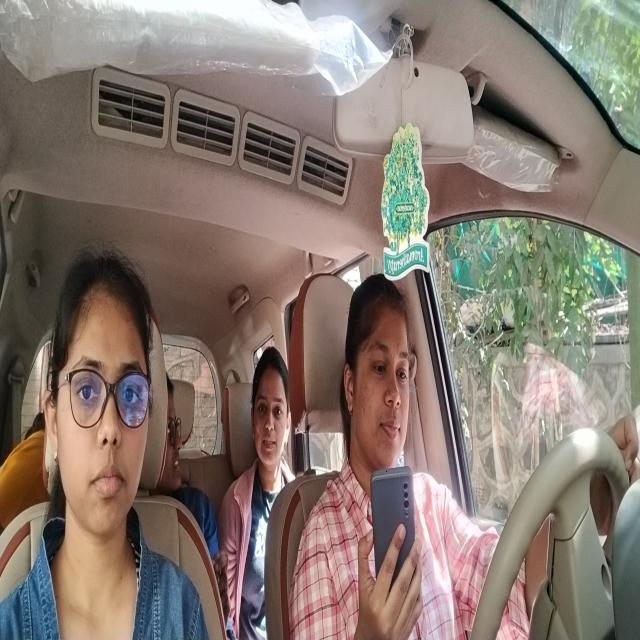mobile: (369, 466, 419, 614)
person: (62, 270, 146, 538), (349, 288, 415, 465), (252, 348, 291, 474), (168, 399, 187, 494)
